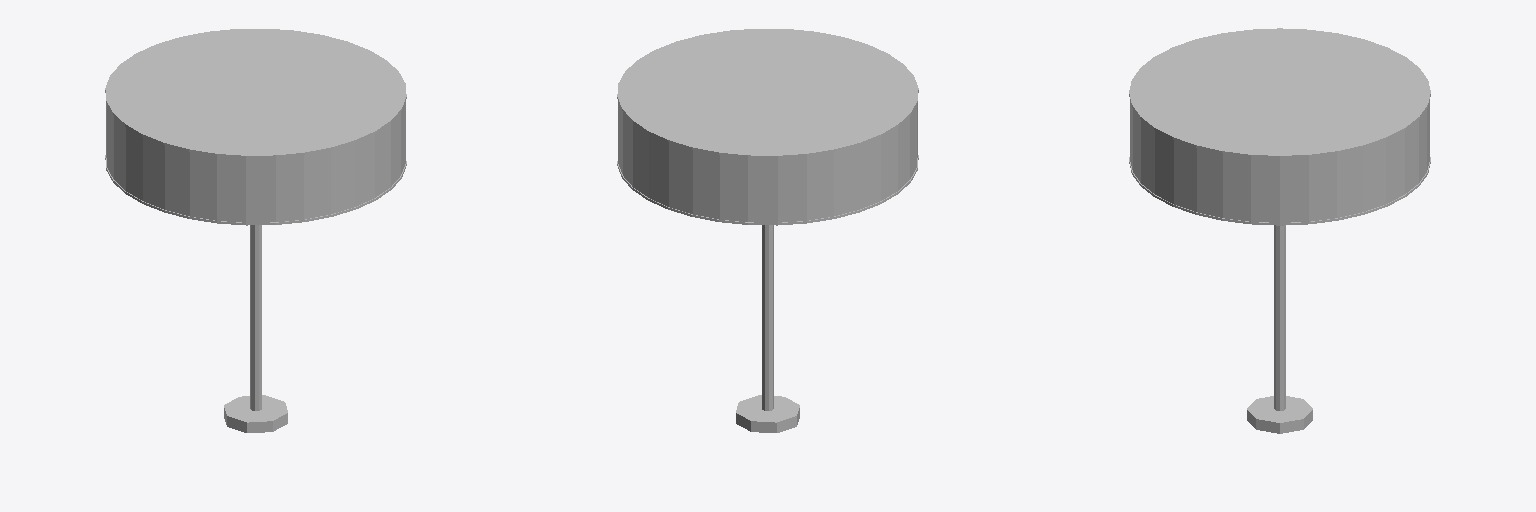
The model's file is lampuPlafon.obj.
The picture shows the model from 3 angles: view 1: azimuth 30°, elevation 25°; view 2: azimuth 150°, elevation 25°; view 3: azimuth 270°, elevation 25°; orthographic projection.
Parts seen in each view (by area): view 1: ceiling_lamp.000; view 2: ceiling_lamp.000; view 3: ceiling_lamp.000.
Boxes of the visible parts, <box> form: ceiling_lamp.000: <box>105,29,406,432</box>; ceiling_lamp.000: <box>617,29,918,432</box>; ceiling_lamp.000: <box>1129,28,1430,433</box>.
Size of the model in its own units: 0.7549 by 0.9035 by 0.7549.